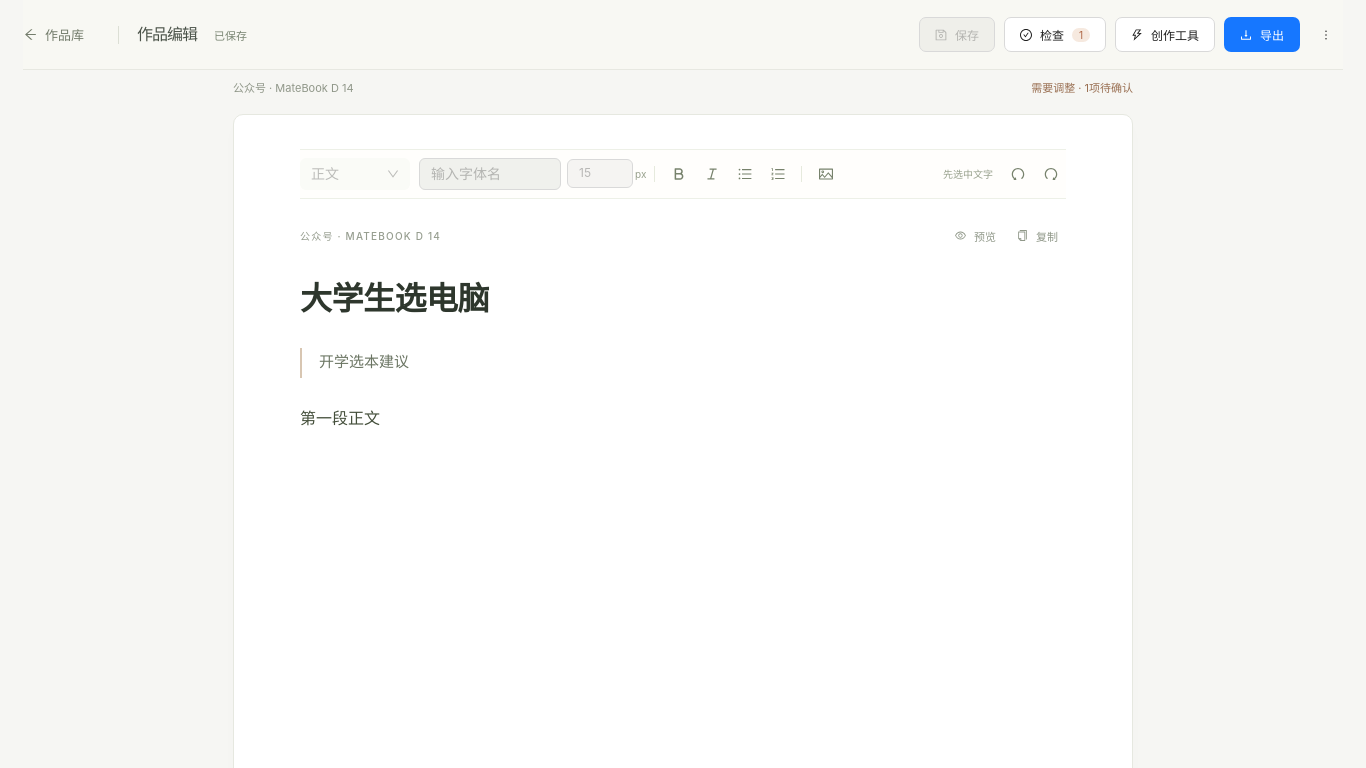
Test: 打开即能直接写正文，检查和海报按需打开
Expected: the field labelled "正文" is shown, [300,408,380,428]
Expected: the button "自动调整并检查" is not shown
Click the button with aria-label "检查内容" at (1055, 34), box [1004,17,1106,52]
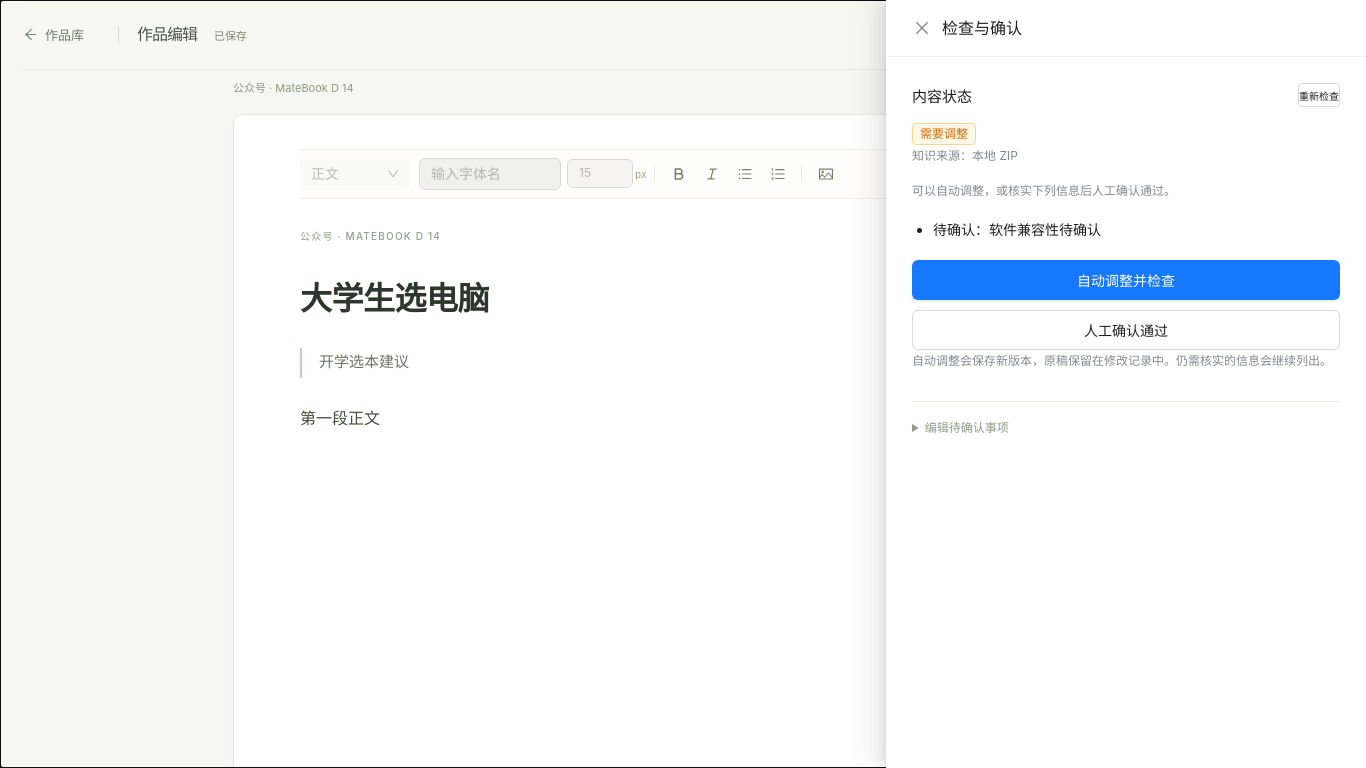
Now the button "自动调整并检查" is shown, box [912,260,1340,300]
